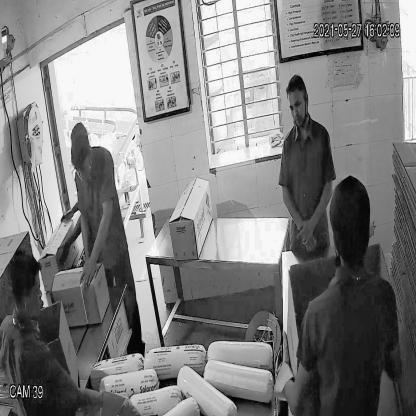no_goggles: (283, 96, 314, 117)
